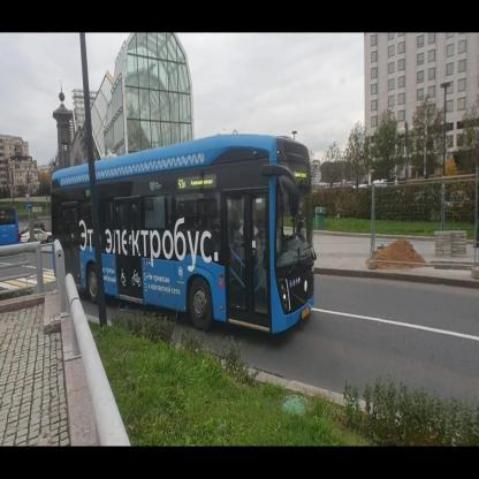bus: (51, 137, 316, 334)
